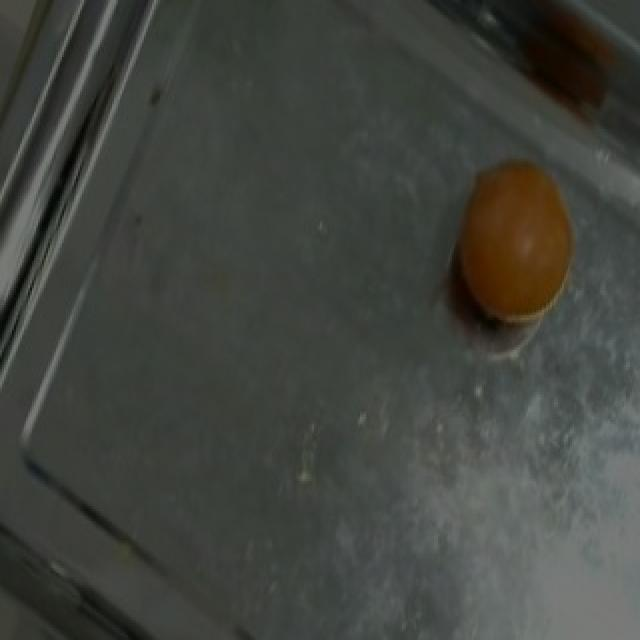Fruit: (430, 142, 600, 352)
